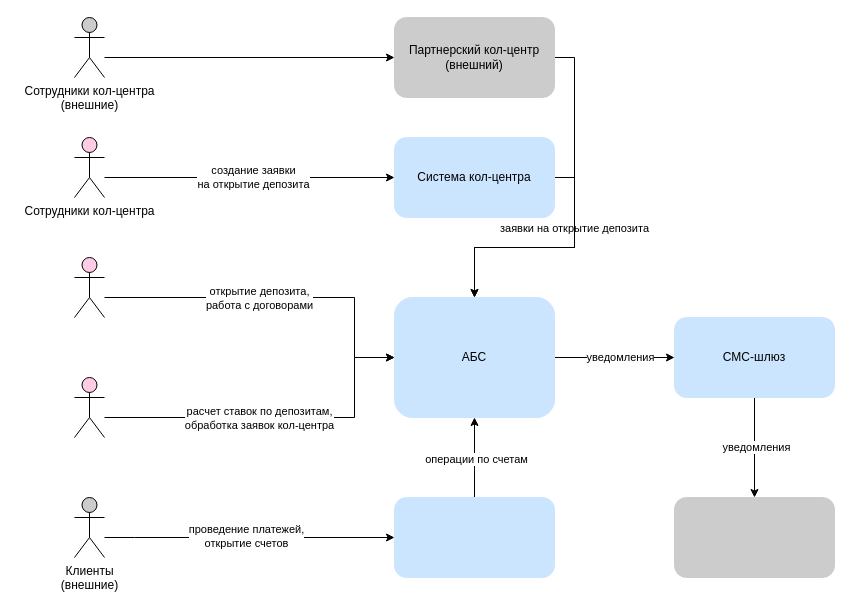
The diagram is 852 pixels wide and 611 high, and some of its shapes have lost their labels. Each missing label, with the box of its shape:
Интернет-банк: (394, 496, 554, 578)
Сотрудники бэк-офиса: (74, 376, 104, 438)
Сотрудники фронт-офиса: (74, 256, 104, 318)
Телеком-оператор (внешний): (674, 496, 834, 578)
